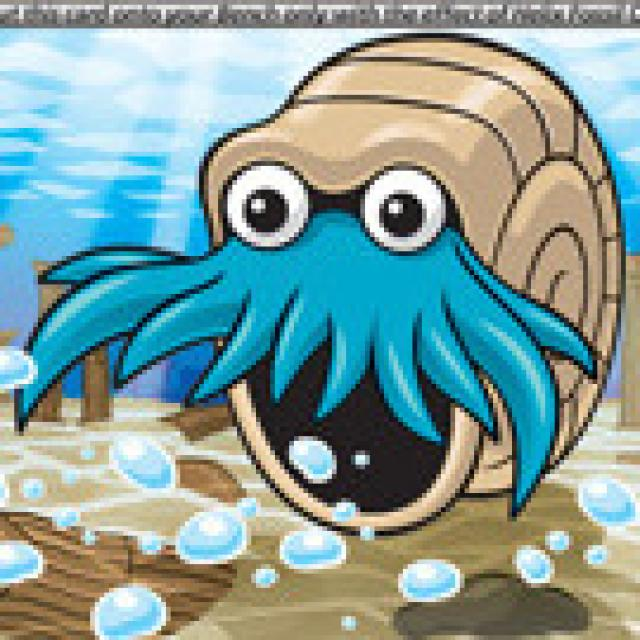Omanyte: (194, 55, 606, 486)
